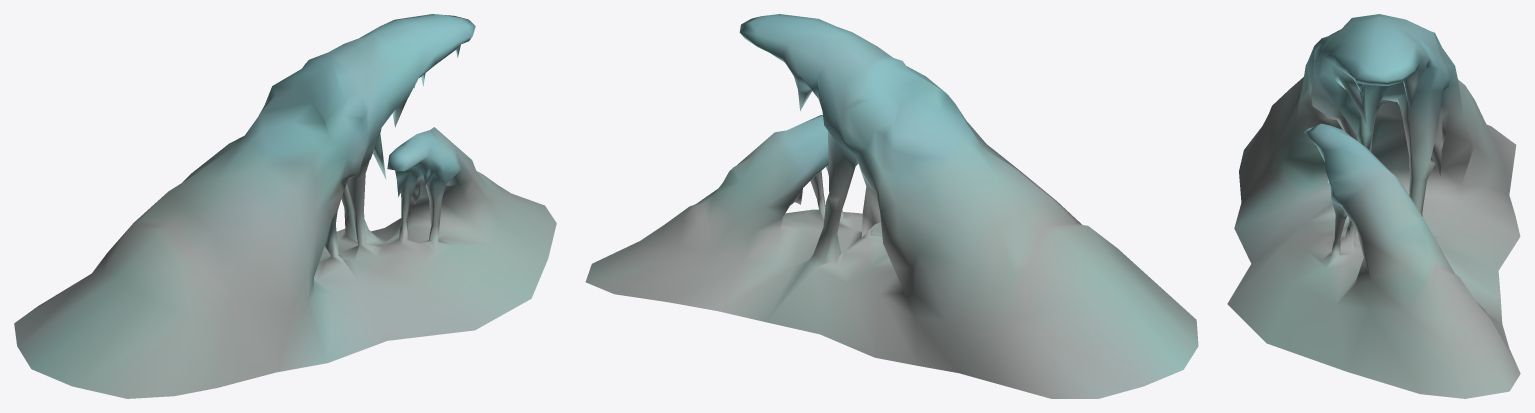
The picture shows the model from 3 angles, left to right: view 1: azimuth 30°, elevation 25°; view 2: azimuth 150°, elevation 25°; view 3: azimuth 270°, elevation 25°; orthographic projection. The views are drawn at different scales.
Parts seen in each view (by area): view 1: G:\FFXIV-MapTools\exports\l1f1\bg\ffxiv\lak_l1\fld\l1f1\bgpa; view 2: G:\FFXIV-MapTools\exports\l1f1\bg\ffxiv\lak_l1\fld\l1f1\bgpa; view 3: G:\FFXIV-MapTools\exports\l1f1\bg\ffxiv\lak_l1\fld\l1f1\bgpa.
Part boxes in pixels (<box>): G:\FFXIV-MapTools\exports\l1f1\bg\ffxiv\lak_l1\fld\l1f1\bgpa: <box>14,14,556,398</box>; G:\FFXIV-MapTools\exports\l1f1\bg\ffxiv\lak_l1\fld\l1f1\bgpa: <box>585,14,1198,398</box>; G:\FFXIV-MapTools\exports\l1f1\bg\ffxiv\lak_l1\fld\l1f1\bgpa: <box>1227,14,1520,398</box>.
Size of the model in its own units: 31.34 by 13.85 by 13.37.
